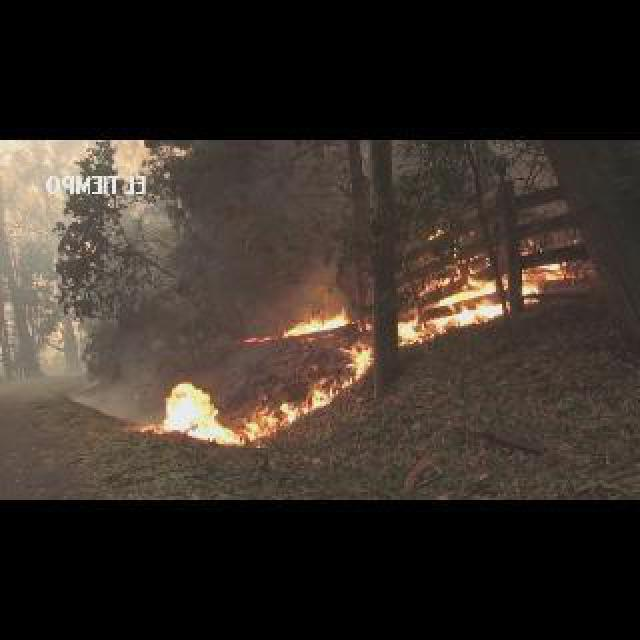Fire: (160, 378, 336, 442), (396, 270, 498, 344), (522, 258, 570, 302), (284, 308, 352, 336), (340, 338, 372, 386), (240, 332, 270, 344), (426, 224, 444, 240), (522, 238, 534, 256)
